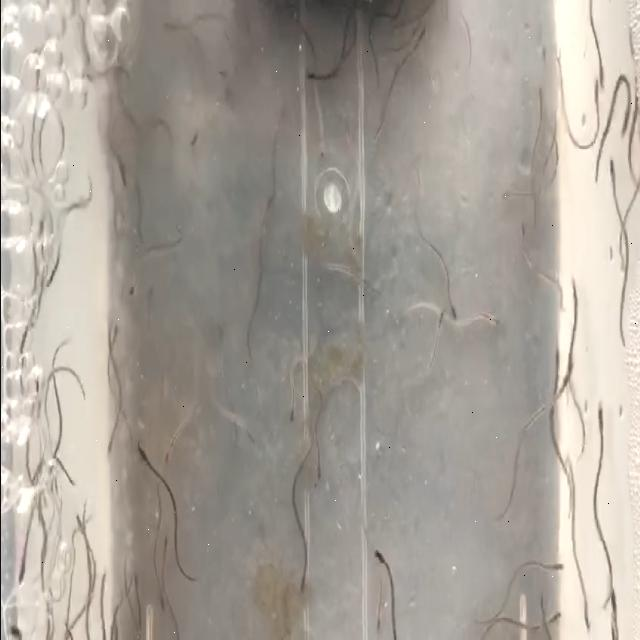active_glass_eel: (278, 354, 296, 424), (118, 548, 146, 590), (270, 84, 289, 140), (155, 430, 184, 464), (312, 458, 336, 496), (109, 272, 138, 298), (544, 536, 564, 572), (260, 194, 280, 228), (592, 394, 606, 441), (488, 305, 506, 339), (94, 432, 118, 457), (157, 588, 170, 634), (192, 120, 205, 166), (528, 584, 546, 616), (292, 562, 310, 592), (586, 70, 600, 107), (70, 508, 90, 532), (594, 68, 608, 100), (550, 598, 563, 632), (564, 279, 580, 306), (618, 112, 630, 146), (131, 432, 143, 466), (429, 297, 443, 325), (369, 540, 383, 567), (559, 372, 577, 390), (550, 347, 562, 372), (446, 297, 456, 324), (604, 162, 616, 184), (158, 537, 170, 559), (518, 214, 526, 240), (531, 86, 545, 100), (502, 186, 510, 210), (108, 329, 120, 343), (555, 544, 559, 556)
